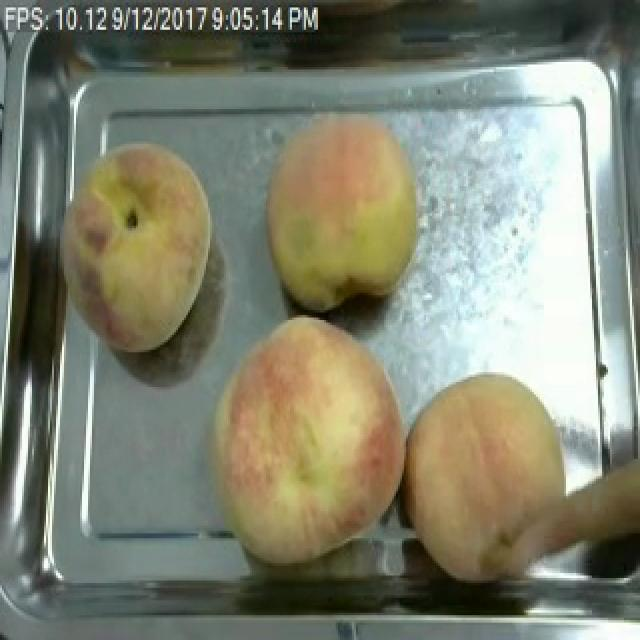Fruit: (198, 305, 418, 571), (390, 365, 586, 600), (44, 132, 224, 362), (254, 101, 430, 318)
